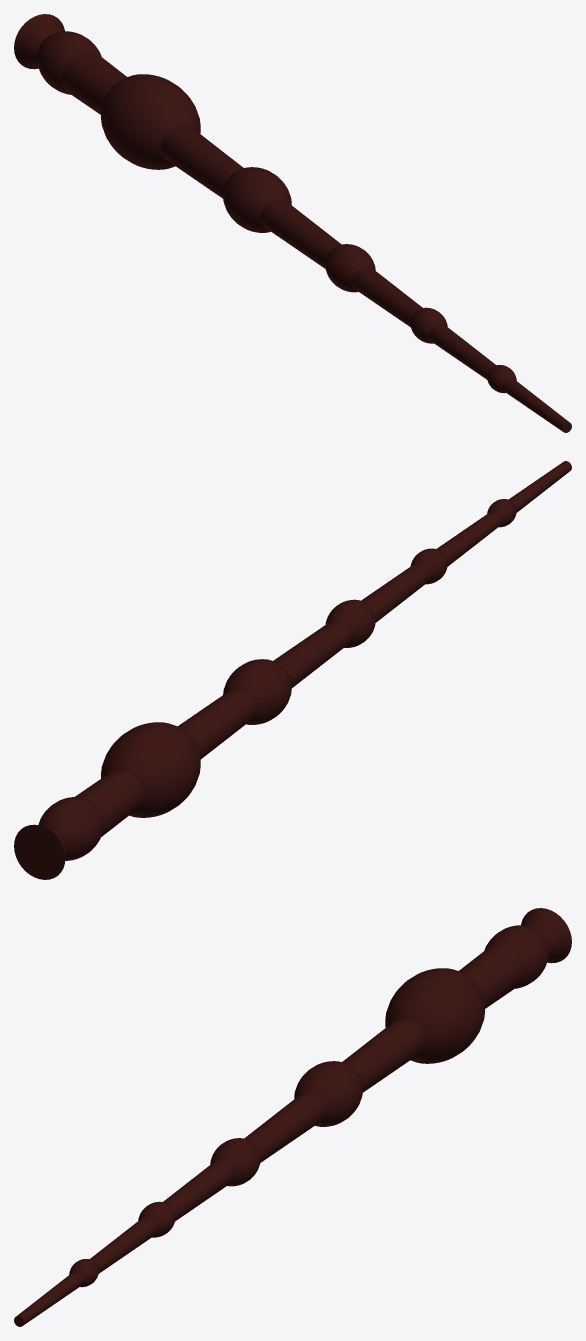
File: baguette.glb
3 views of the same model, one above another, from view 1: azimuth 30°, elevation 25°; view 2: azimuth 150°, elevation 25°; view 3: azimuth 330°, elevation 25° (orthographic).
Visible parts, largest first — view 1: Baguette_sureau; view 2: Baguette_sureau; view 3: Baguette_sureau.
Part boxes in pixels (box(x1,y1,x2,y2)): Baguette_sureau: box(14, 14, 571, 432); Baguette_sureau: box(14, 461, 571, 879); Baguette_sureau: box(14, 908, 571, 1326).
Size of the model in its own units: 0.0453 by 0.0453 by 0.5286.
